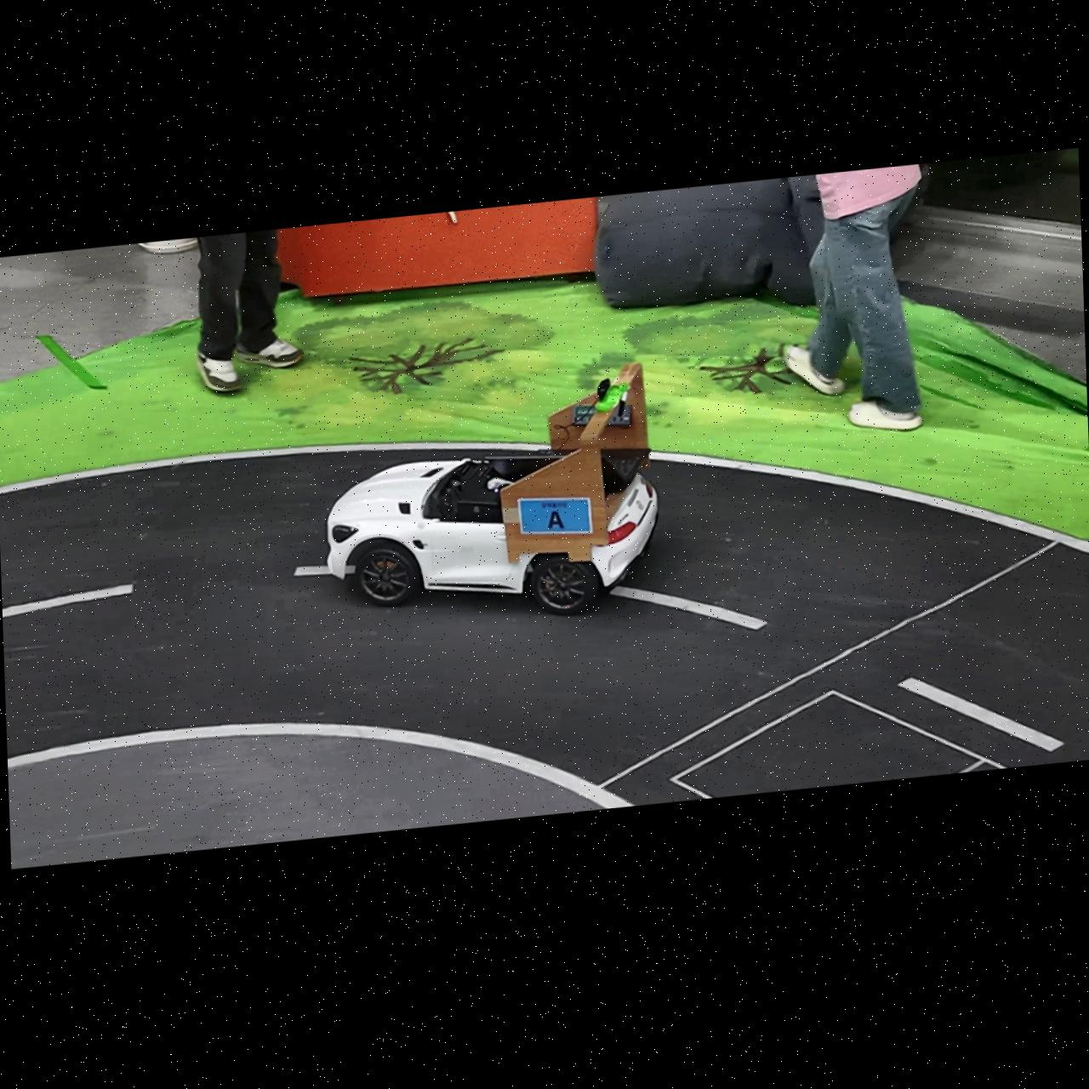broken_line: (897, 677, 1062, 751), (609, 586, 768, 629), (2, 584, 133, 616), (293, 565, 355, 575)
